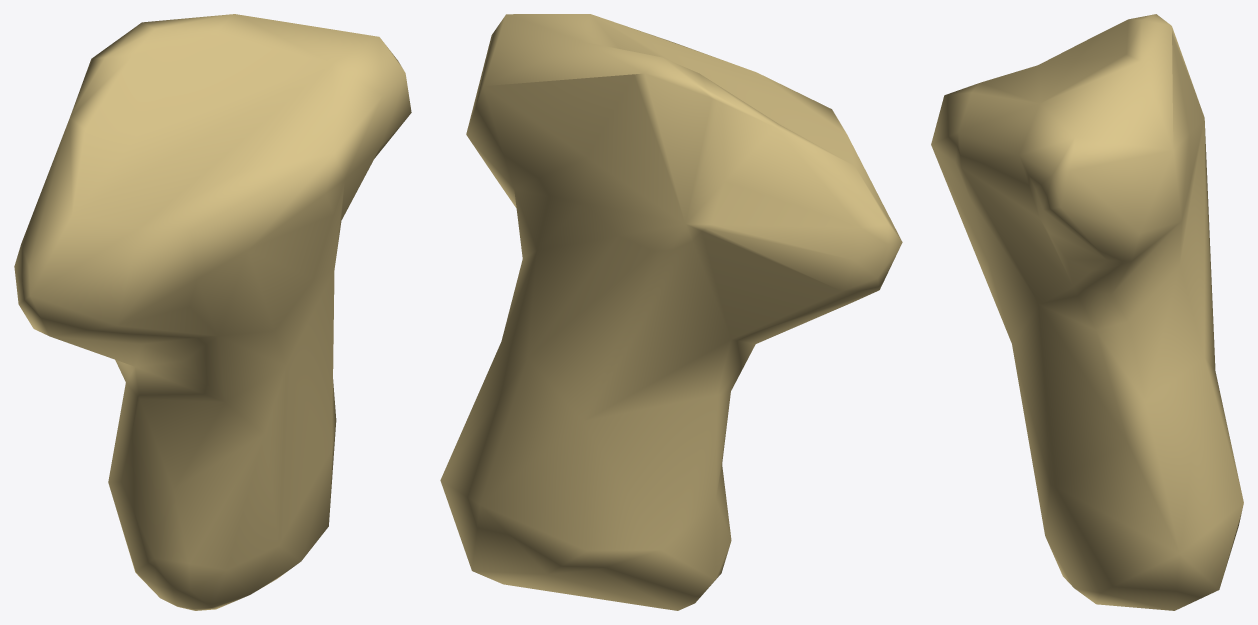
3 renders of one model, left to right at view 1: azimuth 30°, elevation 25°; view 2: azimuth 150°, elevation 25°; view 3: azimuth 270°, elevation 25°, orthographic. The views are drawn at different scales.
Parts seen in each view (by area): view 1: 左侧第五趾远节趾骨; view 2: 左侧第五趾远节趾骨; view 3: 左侧第五趾远节趾骨.
Boxes of the visible parts, x1=… form: 左侧第五趾远节趾骨: x1=14, y1=14, x2=411, y2=610; 左侧第五趾远节趾骨: x1=440, y1=14, x2=902, y2=610; 左侧第五趾远节趾骨: x1=931, y1=14, x2=1243, y2=610.
Size of the model in its own units: 0.0116 by 0.0161 by 0.0083.
